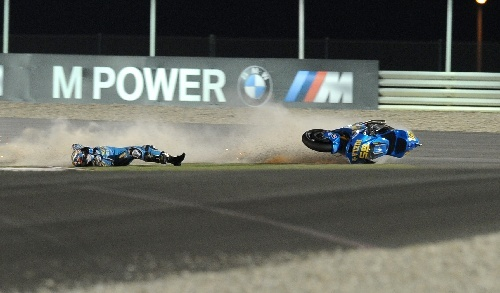falling: (64, 132, 189, 170)
